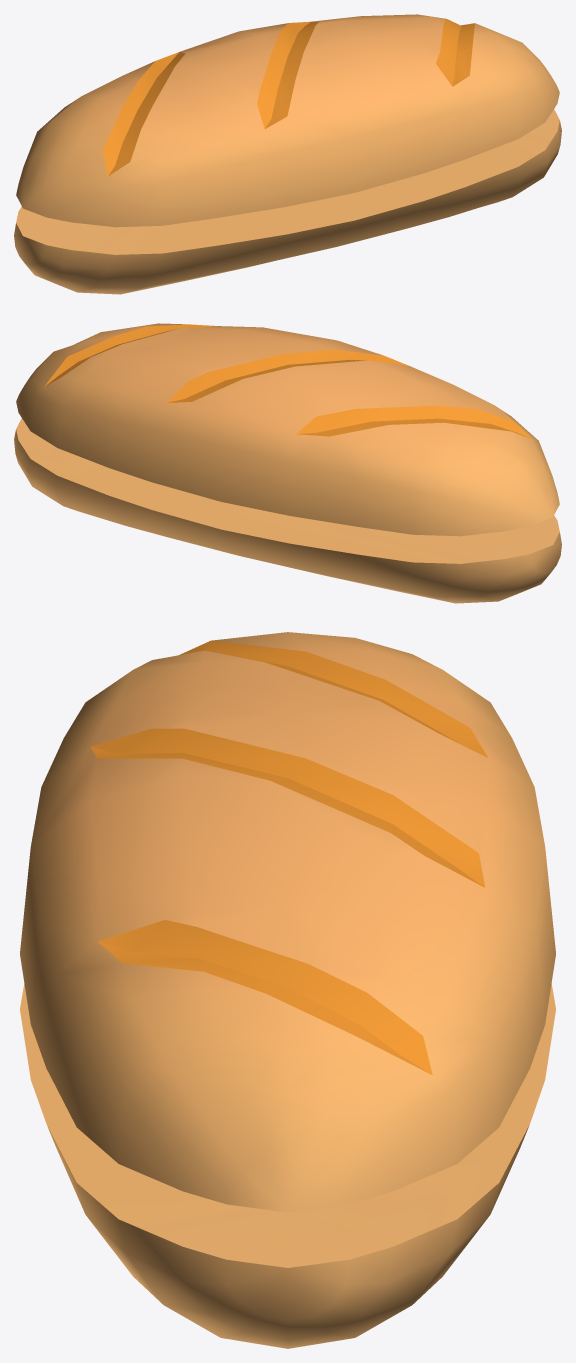
File: Sandwich_Loaf_top.fbx
3 renders of one model, top to bottom at view 1: azimuth 30°, elevation 25°; view 2: azimuth 150°, elevation 25°; view 3: azimuth 270°, elevation 25°, orthographic. The views are drawn at different scales.
Visible parts, largest first — view 1: Sandwich_Loaf_top, Sandwich_Loaf_Bottom; view 2: Sandwich_Loaf_top, Sandwich_Loaf_Bottom; view 3: Sandwich_Loaf_top, Sandwich_Loaf_Bottom.
Part boxes in pixels (<box>): Sandwich_Loaf_top: <box>16,14,559,227</box>; Sandwich_Loaf_Bottom: <box>14,109,561,294</box>; Sandwich_Loaf_top: <box>16,323,559,536</box>; Sandwich_Loaf_Bottom: <box>14,418,561,603</box>; Sandwich_Loaf_top: <box>20,632,555,1212</box>; Sandwich_Loaf_Bottom: <box>20,984,555,1348</box>.
Size of the model in its own units: 172 by 58.21 by 75.14.
